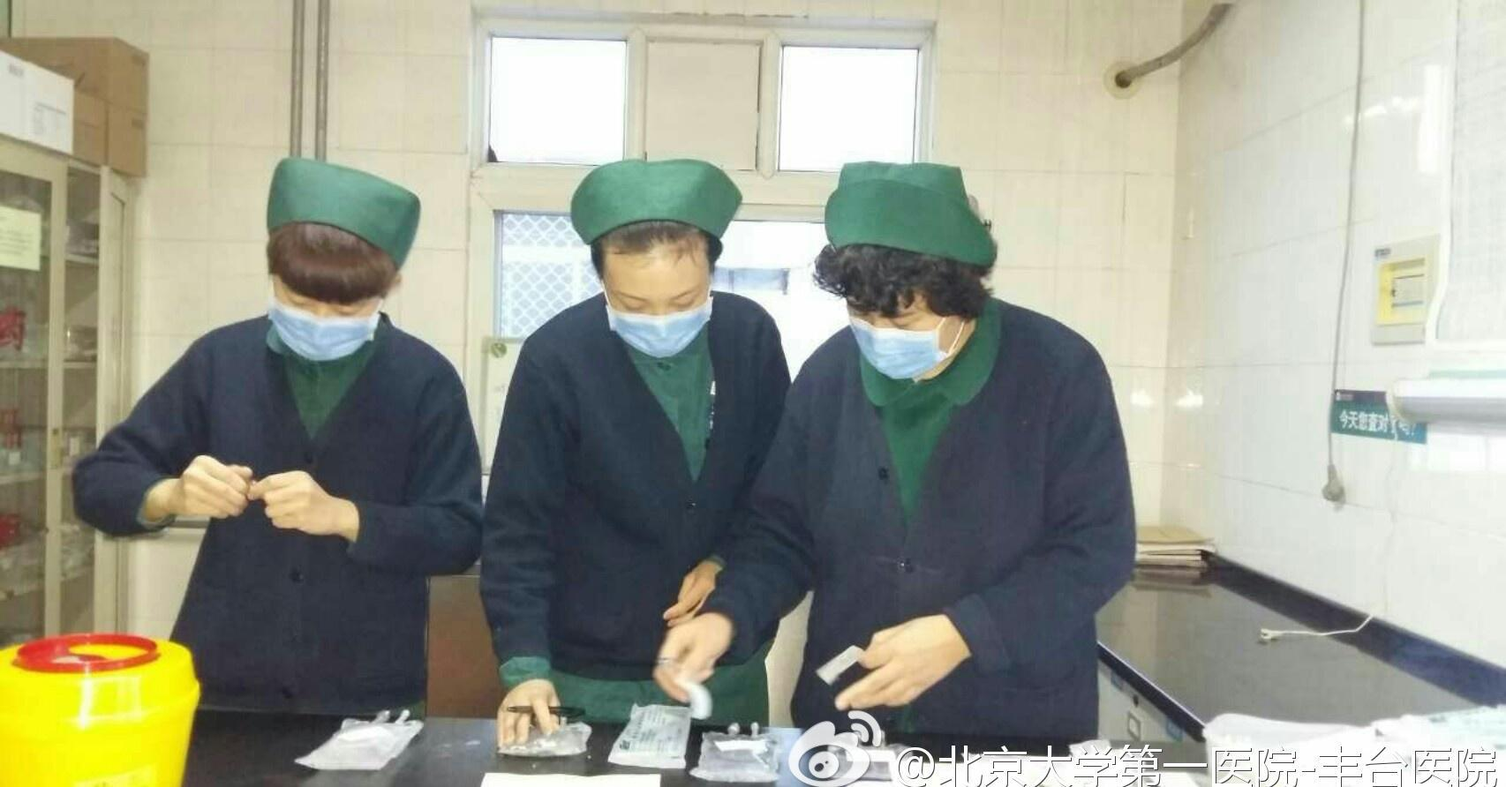OK: (271, 258, 374, 361), (606, 263, 704, 362), (848, 289, 944, 384)
